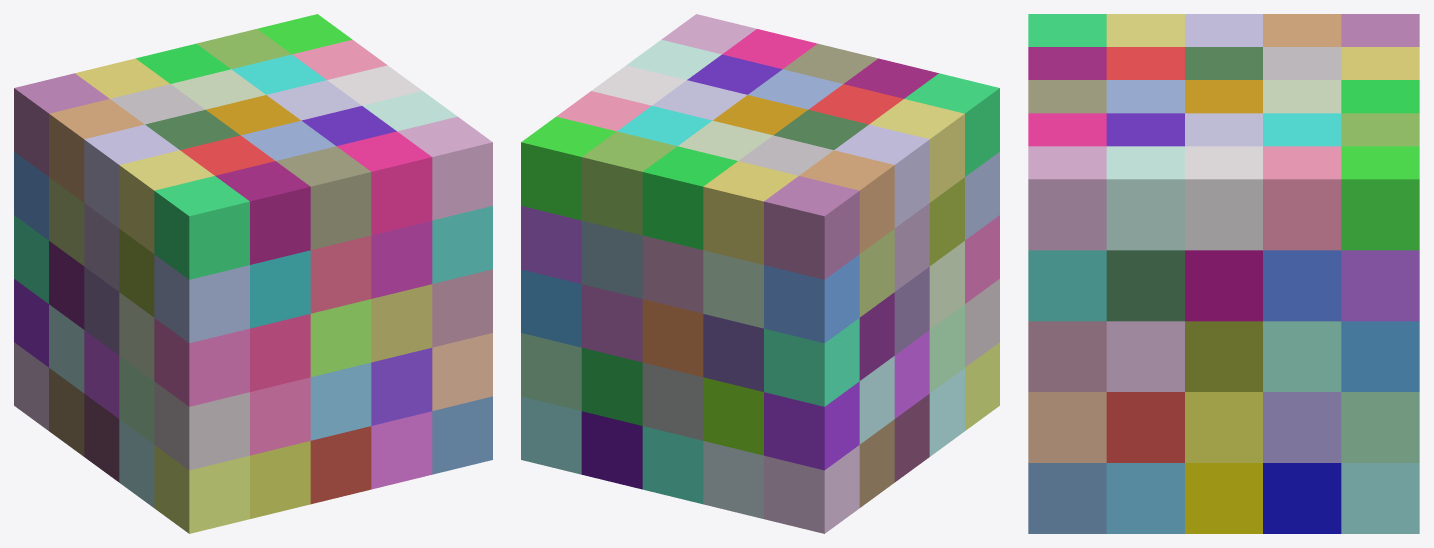
The model's file is cours-cube-couleurs.glb.
3 renders of one model, left to right at view 1: azimuth 30°, elevation 25°; view 2: azimuth 150°, elevation 25°; view 3: azimuth 270°, elevation 25°, orthographic. The views are drawn at different scales.
Parts seen in each view (by area): view 1: Cube.225, Cube.125, Cube.150, Cube.175, Cube.200, Cube.240, Cube.235, Cube.230, Cube.245, Cube.226, Cube.228, Cube.227 (+49 smaller); view 2: Cube.229, Cube.129, Cube.154, Cube.179, Cube.204, Cube.244, Cube.239, Cube.234, Cube.249, Cube.228, Cube.226, Cube.227 (+49 smaller); view 3: Cube.245, Cube.249, Cube.246, Cube.248, Cube.247, Cube.220, Cube.224, Cube.221, Cube.223, Cube.222, Cube.145, Cube.146 (+33 smaller).
Boxes of the visible parts, box(x1,y1,x2,y2) form: Cube.225: box(154, 176, 249, 279); Cube.125: box(154, 445, 249, 533); Cube.150: box(154, 381, 249, 470); Cube.175: box(154, 318, 249, 406); Cube.200: box(154, 254, 249, 343); Cube.240: box(336, 131, 432, 235); Cube.235: box(276, 146, 371, 249); Cube.230: box(215, 161, 310, 264); Cube.245: box(397, 116, 492, 220); Cube.226: box(119, 150, 214, 253); Cube.228: box(49, 99, 144, 202); Cube.227: box(84, 124, 179, 227); Cube.229: box(764, 176, 859, 279); Cube.129: box(764, 445, 859, 533); Cube.154: box(764, 381, 859, 470); Cube.179: box(764, 318, 859, 406); Cube.204: box(764, 254, 859, 343); Cube.244: box(581, 131, 677, 235); Cube.239: box(642, 146, 737, 249); Cube.234: box(703, 161, 798, 264); Cube.249: box(521, 116, 616, 220); Cube.228: box(799, 150, 894, 253); Cube.226: box(869, 99, 964, 202); Cube.227: box(834, 124, 929, 227); Cube.245: box(1028, 146, 1106, 250); Cube.249: box(1341, 146, 1419, 250); Cube.246: box(1106, 146, 1184, 250); Cube.248: box(1263, 146, 1341, 250); Cube.247: box(1185, 146, 1262, 250); Cube.220: box(1028, 250, 1106, 321); Cube.224: box(1341, 250, 1419, 321); Cube.221: box(1106, 250, 1184, 321); Cube.223: box(1263, 250, 1341, 321); Cube.222: box(1185, 250, 1262, 321); Cube.145: box(1028, 463, 1106, 533); Cube.146: box(1106, 463, 1184, 533).
Size of the model in its own units: 4 by 4 by 4.
